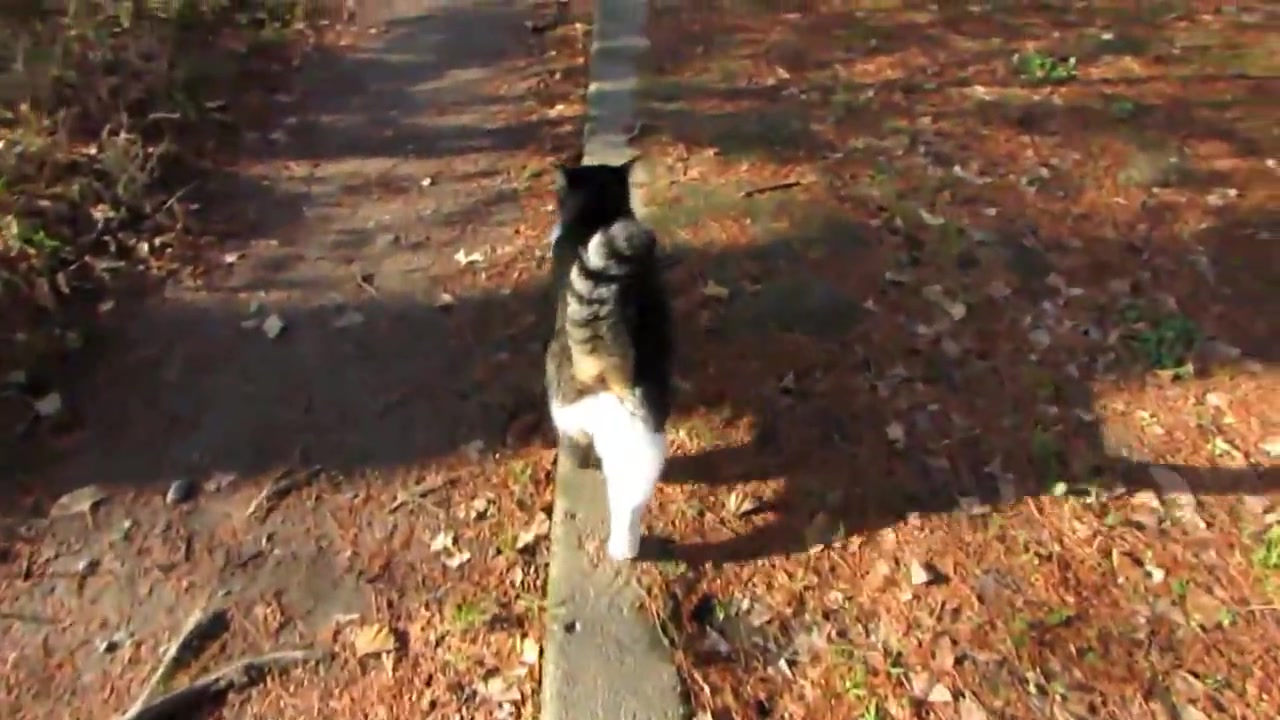cat: (532, 153, 665, 564)
